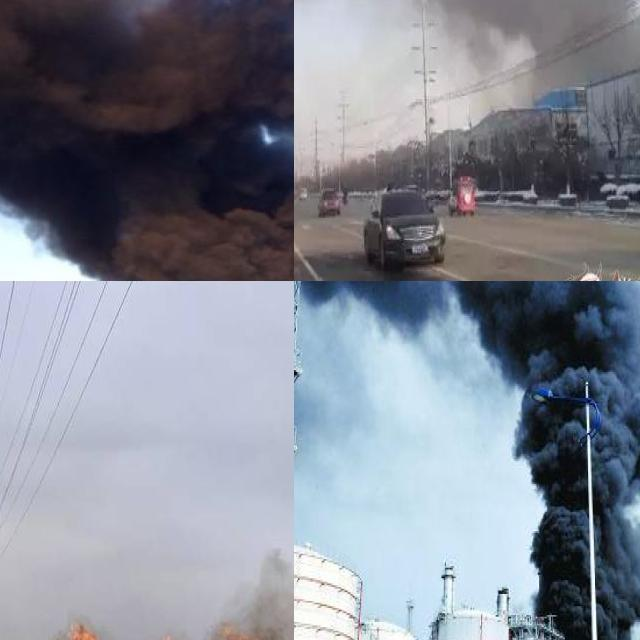smoke: (294, 281, 640, 640), (0, 0, 294, 281), (294, 0, 640, 105)
